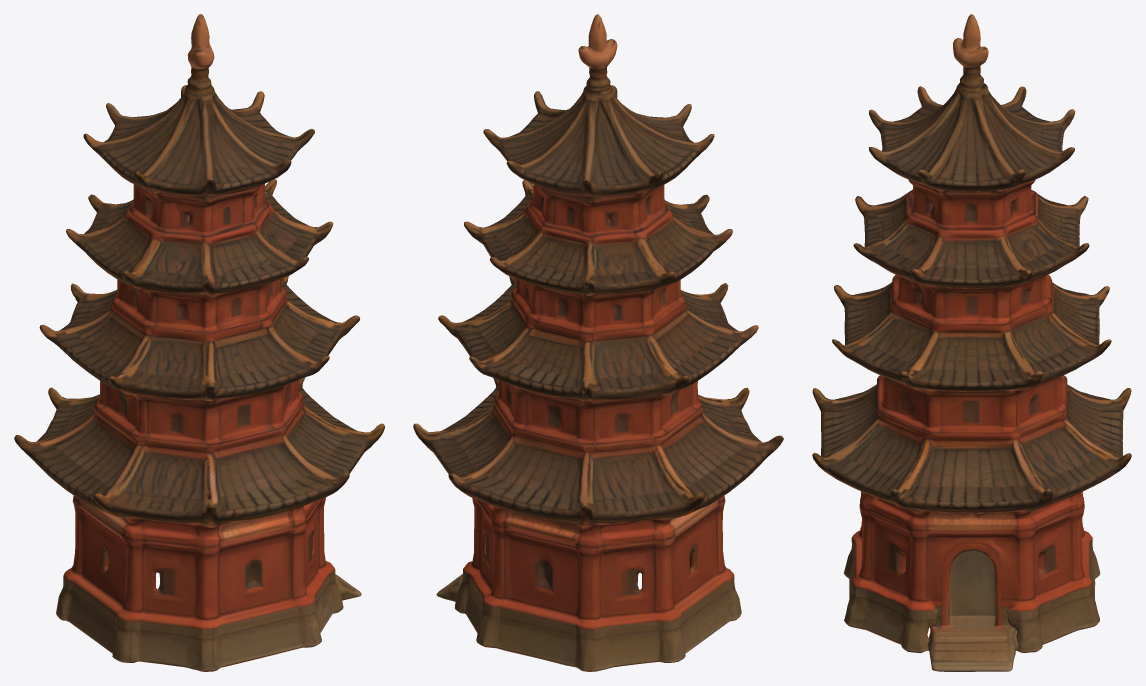
File: Fire Nation Tower.glb
The picture shows the model from 3 angles, left to right: view 1: azimuth 30°, elevation 25°; view 2: azimuth 150°, elevation 25°; view 3: azimuth 270°, elevation 25°; orthographic projection. The views are drawn at different scales.
Visible parts, largest first — view 1: tripo_node_33b6f8c4-070a-4906-932a-3d7e72ba6936; view 2: tripo_node_33b6f8c4-070a-4906-932a-3d7e72ba6936; view 3: tripo_node_33b6f8c4-070a-4906-932a-3d7e72ba6936.
Part boxes in pixels (<box>): tripo_node_33b6f8c4-070a-4906-932a-3d7e72ba6936: <box>14,14,384,671</box>; tripo_node_33b6f8c4-070a-4906-932a-3d7e72ba6936: <box>413,14,783,671</box>; tripo_node_33b6f8c4-070a-4906-932a-3d7e72ba6936: <box>812,14,1131,671</box>.
Size of the model in its own units: 0.4809 by 0.9499 by 0.4656.
1 material, 1 textured.
